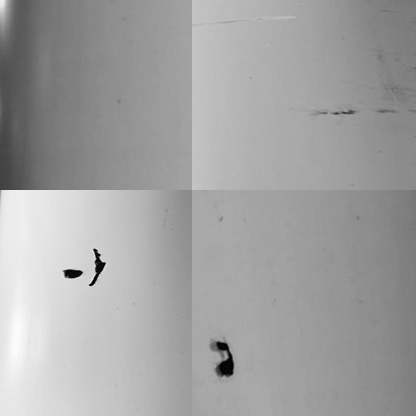kongdong: (208, 334, 233, 379), (90, 248, 111, 293), (61, 265, 82, 282)
